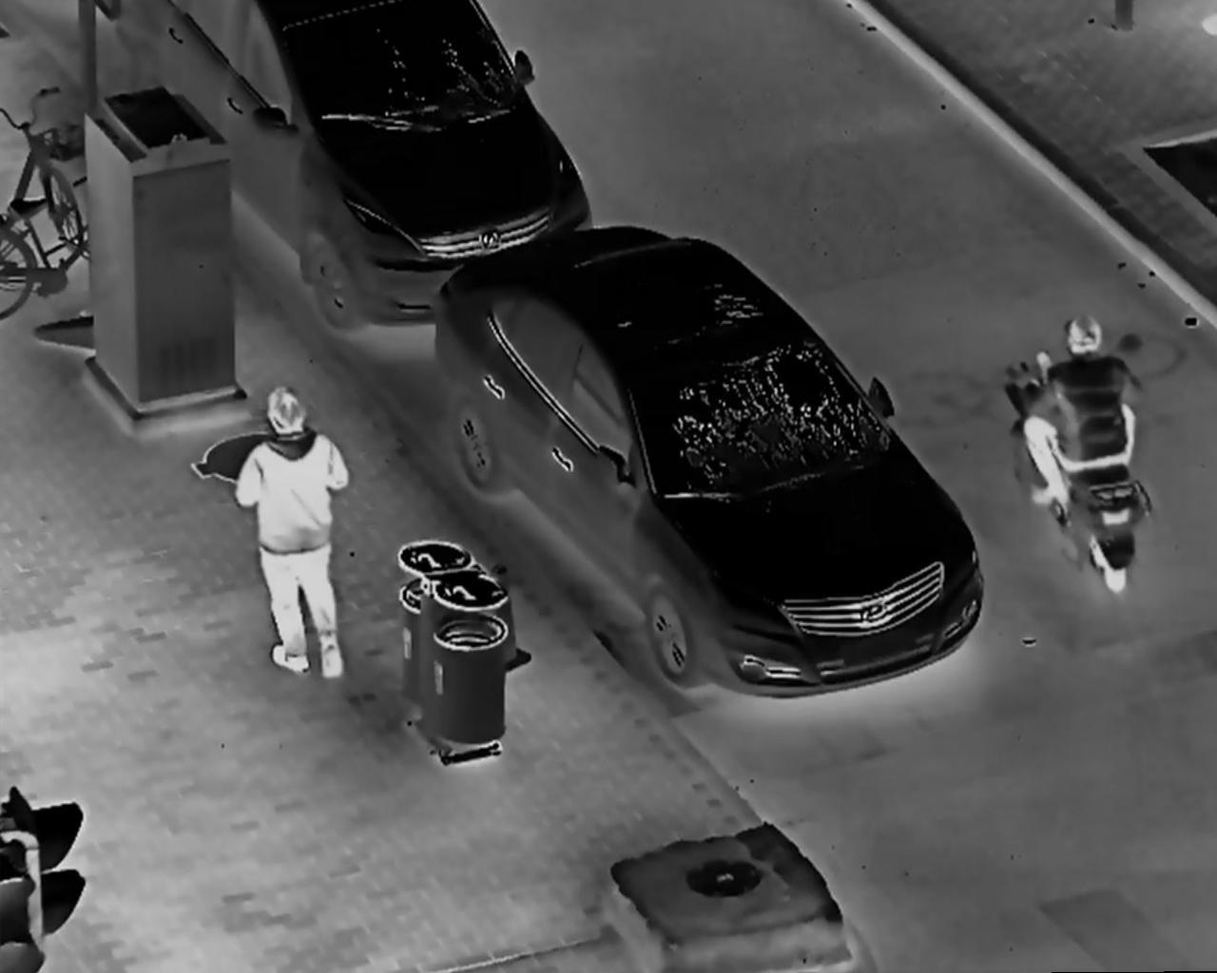person: (233, 381, 356, 686), (1030, 314, 1141, 515)
